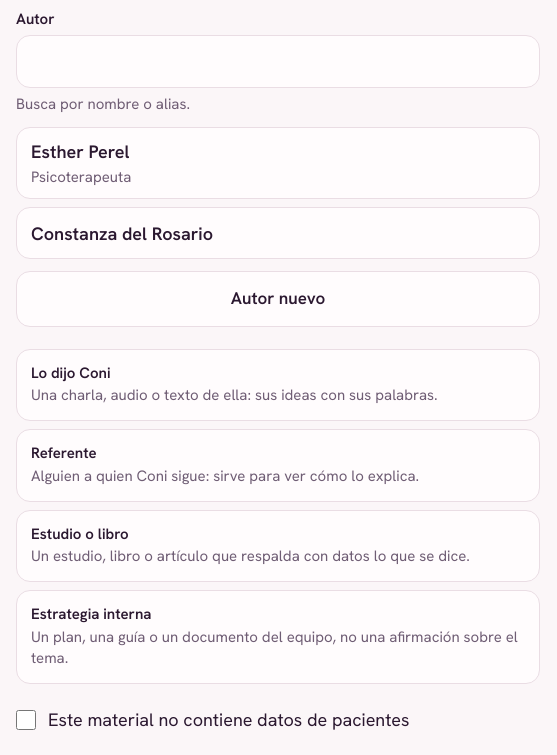
Test: FormularioSubida: autor y rol › picks Coni as the author when she chooses 'Lo dijo Coni' and no author is chosen yet
The image size is (557, 755).
(page scrolled)
What coordinates should you click on to do the following:
click the radio button labelled "Lo dijo Coni"
I would click on:
 (278, 385)
Its box is [16, 349, 540, 421].
(page scrolled)
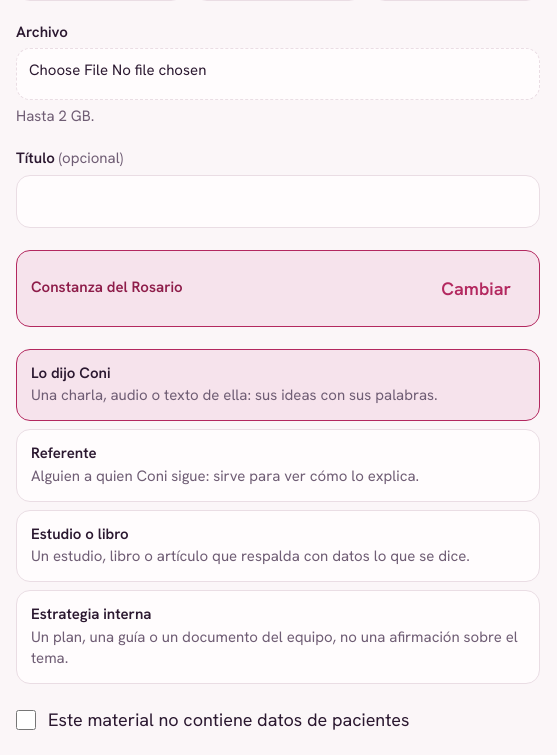
Expected: the text "Constanza del Rosario" is shown, [31, 278, 183, 298]
Result: the button with aria-label "Cambiar autor" is shown at [427, 265, 525, 312]
